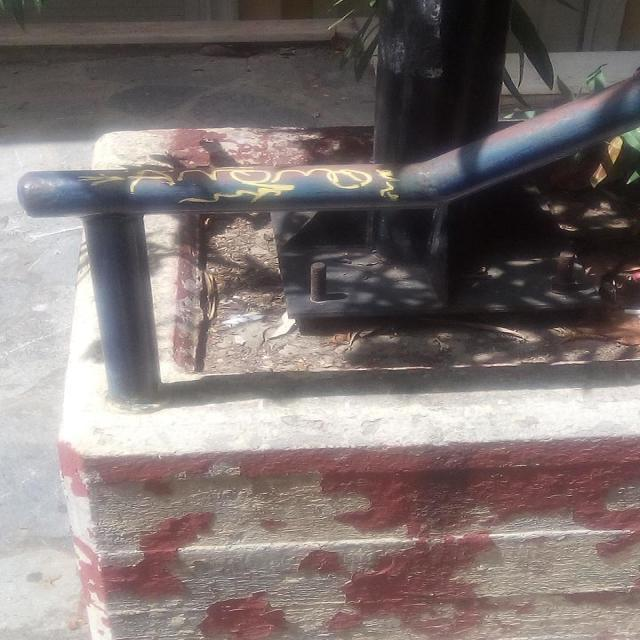nonspitting: (90, 168, 406, 202)
